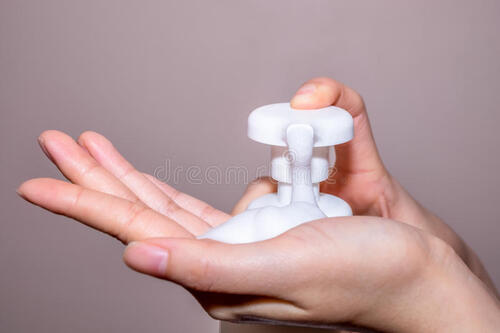sanitizer: (242, 107, 356, 223)
